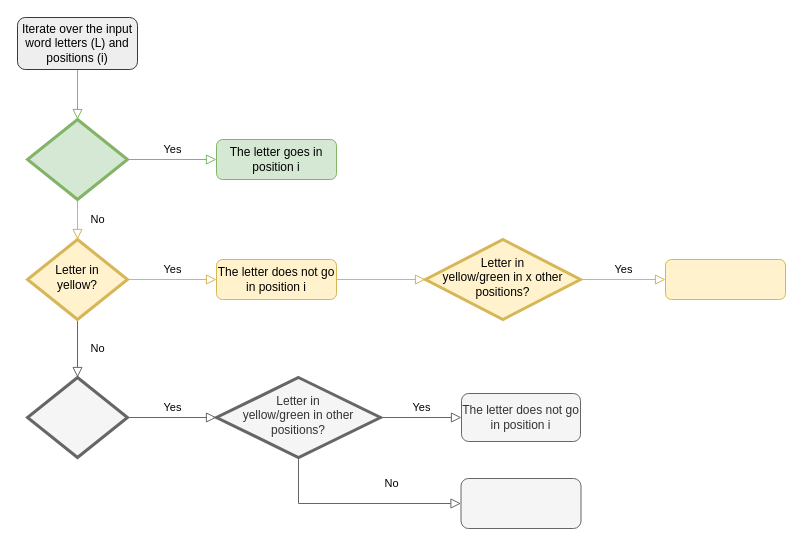
Some shapes in this 803 by 546 pixel diagram are drawn without their labels. The shapes that lost their labels are listed below. From the top down, each one's box as (x1, y1, x2, y2) in pixels, then its label:
(26, 118, 128, 200): Letter in green?
(664, 258, 786, 300): That letter must be at least x + 1 times
(26, 376, 128, 458): Letter in gray?
(460, 478, 581, 528): The letter does not go in the word
